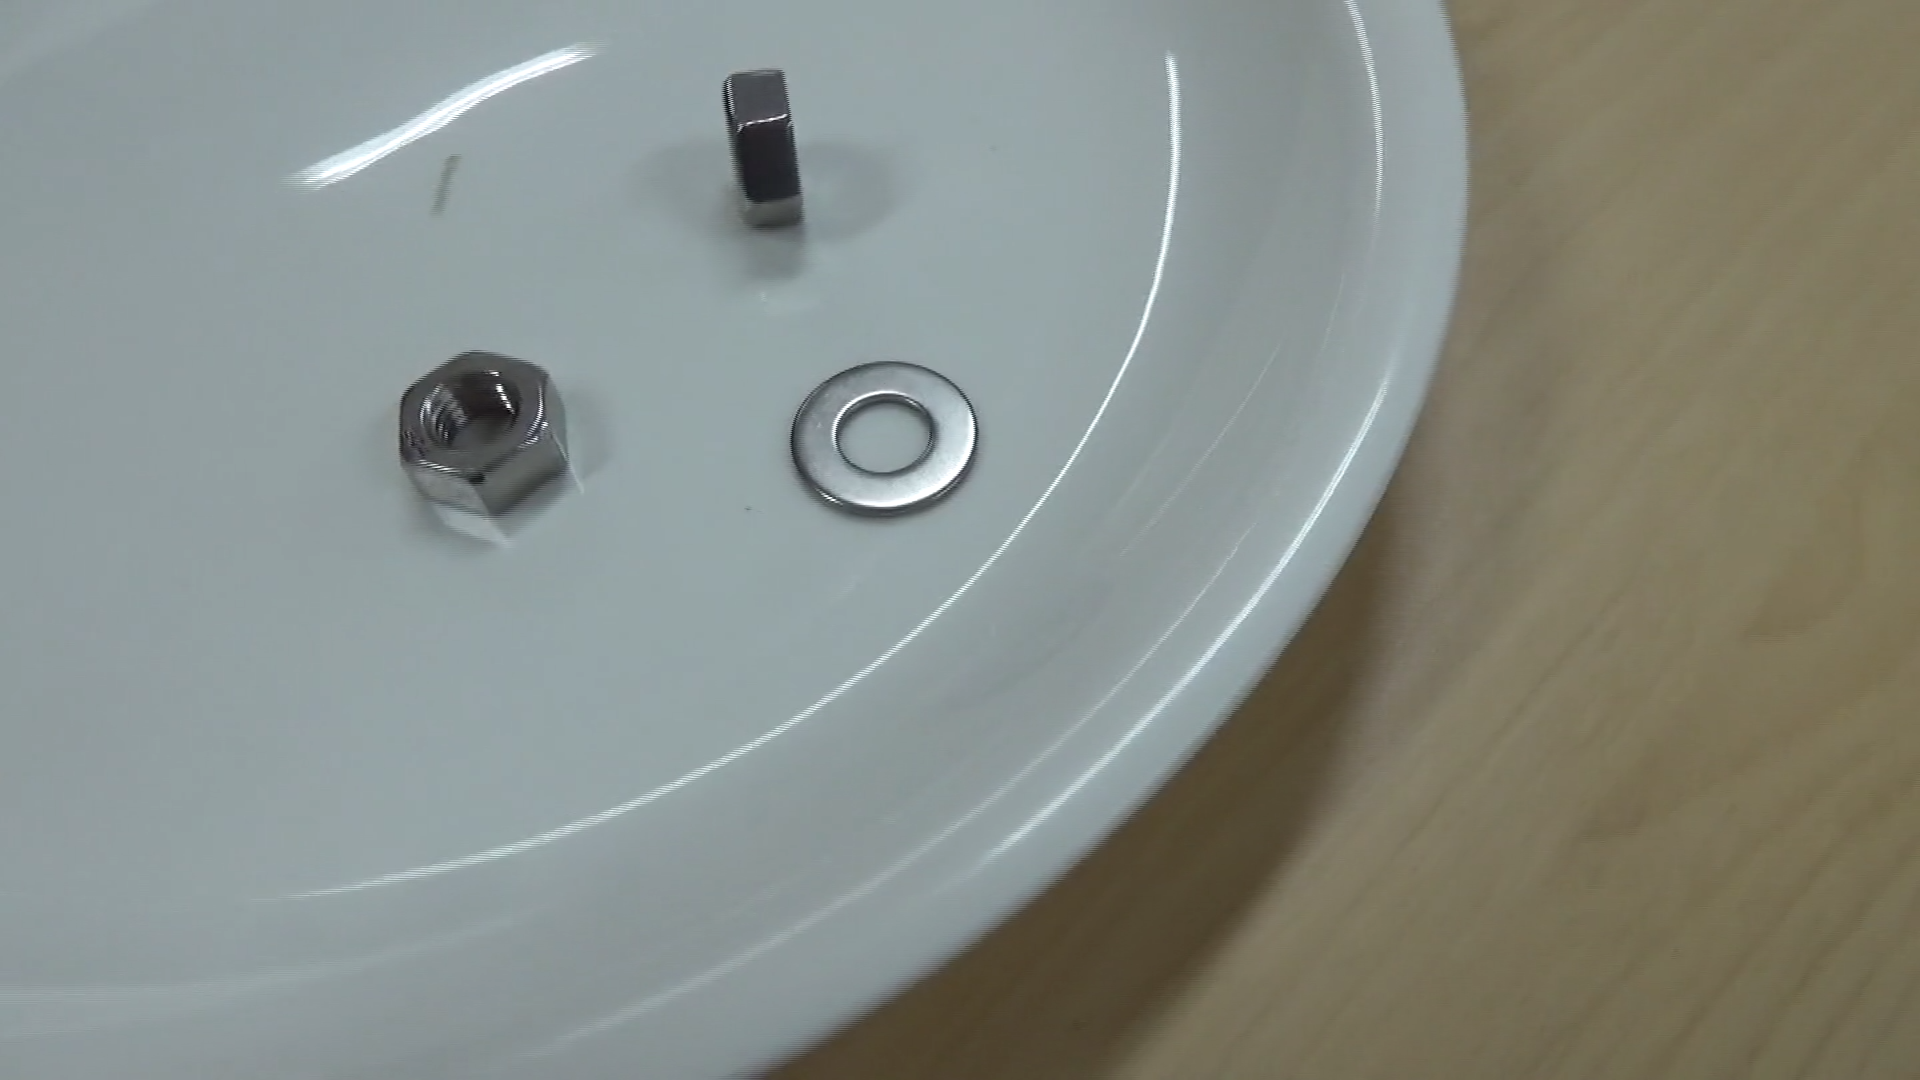nut: (376, 340, 592, 520), (709, 51, 833, 232)
washer: (775, 351, 986, 527)
